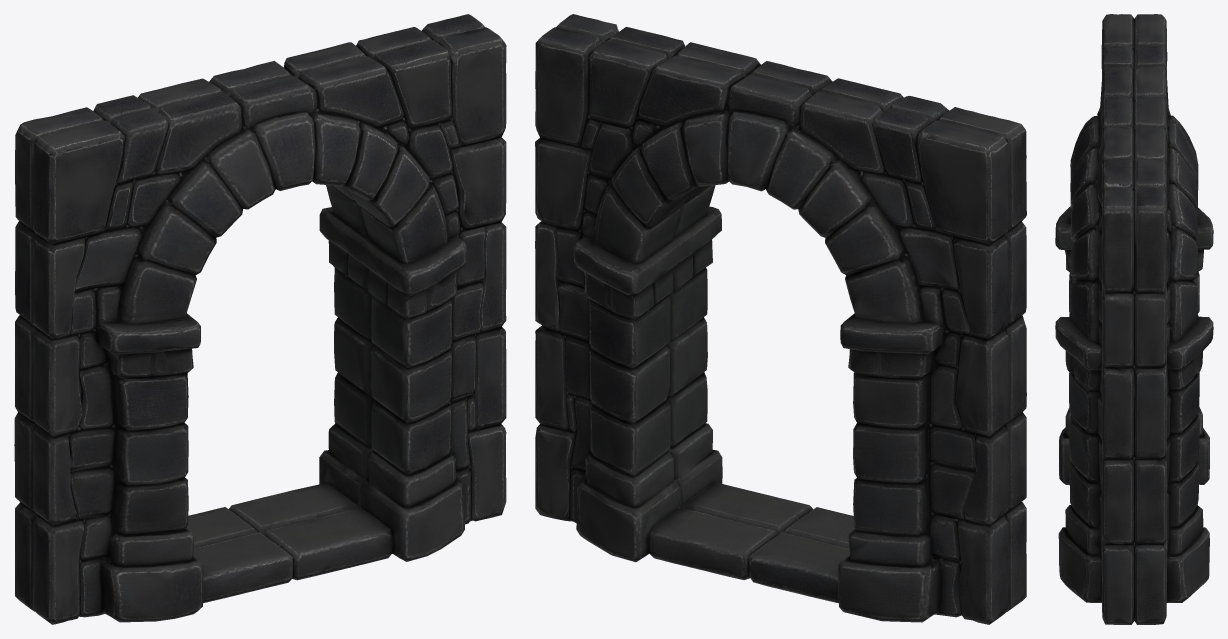
Rendered from Archway_Stone_Doorway.fbx.
3 renders of one model, left to right at view 1: azimuth 30°, elevation 25°; view 2: azimuth 150°, elevation 25°; view 3: azimuth 270°, elevation 25°, orthographic. The views are drawn at different scales.
Visible parts, largest first — view 1: Archway_Stone_Doorway; view 2: Archway_Stone_Doorway; view 3: Archway_Stone_Doorway.
Part boxes in pixels (left/top/right/bottom): Archway_Stone_Doorway: left=14, top=14, right=506, bottom=624; Archway_Stone_Doorway: left=535, top=14, right=1026, bottom=624; Archway_Stone_Doorway: left=1055, top=14, right=1213, bottom=624.
Size of the model in its own units: 302 by 301 by 103.
1 material, 1 textured.
